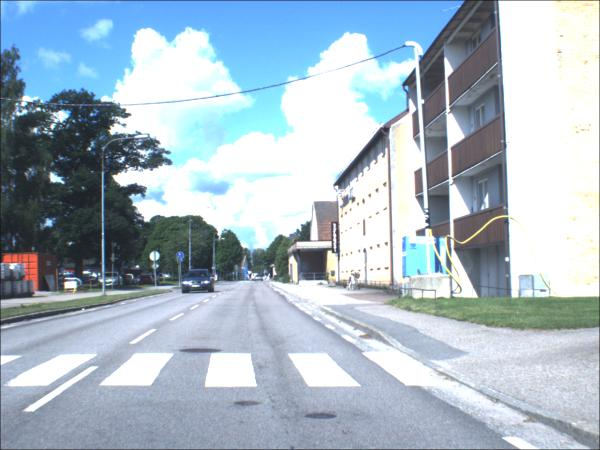PASS_RIGHT_SIDE: (244, 272, 249, 276)
PEDESTRIAN_CROSSING: (245, 267, 249, 271)
